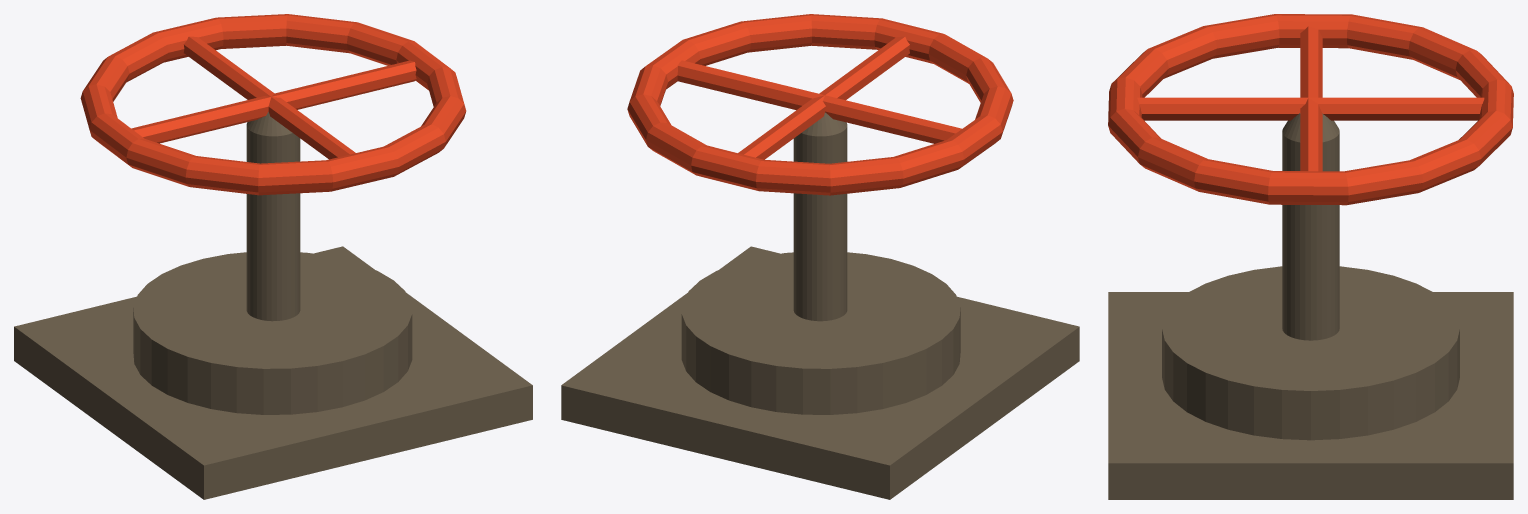
Rendered from Pipe_3.fbx.
3 views of the same model, side by side, from view 1: azimuth 30°, elevation 25°; view 2: azimuth 150°, elevation 25°; view 3: azimuth 270°, elevation 25° (orthographic). The views are drawn at different scales.
Visible parts, largest first — view 1: Plane, Cylinder.002; view 2: Plane, Cylinder.002; view 3: Plane, Cylinder.002.
Part boxes in pixels (box(x1,y1,x2,y2)): Plane: box(14, 112, 532, 499); Cylinder.002: box(80, 14, 466, 195); Plane: box(561, 112, 1079, 499); Cylinder.002: box(627, 14, 1013, 195); Plane: box(1108, 113, 1513, 499); Cylinder.002: box(1108, 14, 1513, 205).
Bounding box in the file's own units: 100 × 87.21 × 100.
